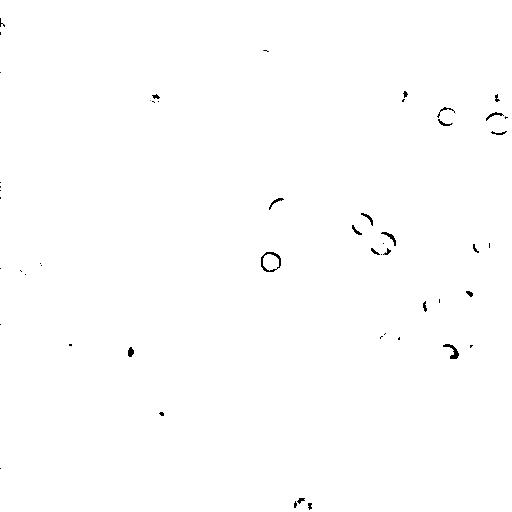micro-algae: (364, 234, 468, 339), (1, 327, 66, 424), (117, 23, 186, 93), (110, 328, 149, 372), (89, 360, 130, 398), (52, 324, 91, 362), (240, 329, 274, 360), (450, 275, 481, 305), (149, 397, 181, 425), (132, 176, 164, 202), (376, 0, 417, 20), (368, 231, 398, 257), (350, 210, 376, 238), (251, 48, 278, 73), (484, 111, 511, 136), (376, 327, 402, 352), (461, 337, 488, 361), (471, 232, 492, 259), (387, 83, 411, 106), (18, 256, 44, 277), (260, 251, 283, 274), (69, 498, 106, 512), (435, 105, 458, 127), (267, 196, 290, 218), (124, 242, 147, 263), (291, 495, 319, 512), (424, 291, 441, 317), (314, 240, 335, 258), (487, 89, 509, 105), (502, 218, 512, 250), (441, 344, 460, 360), (1, 19, 9, 42)
